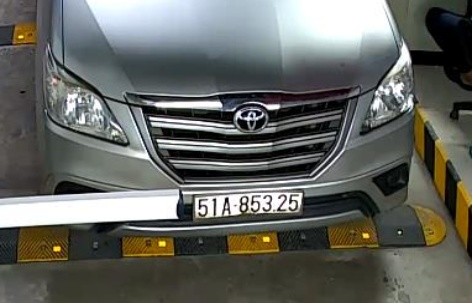plate: (194, 186, 305, 225)
